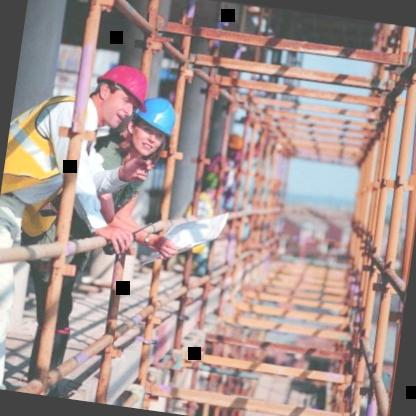helmet: (78, 60, 147, 140), (124, 93, 180, 168), (216, 129, 247, 161)
